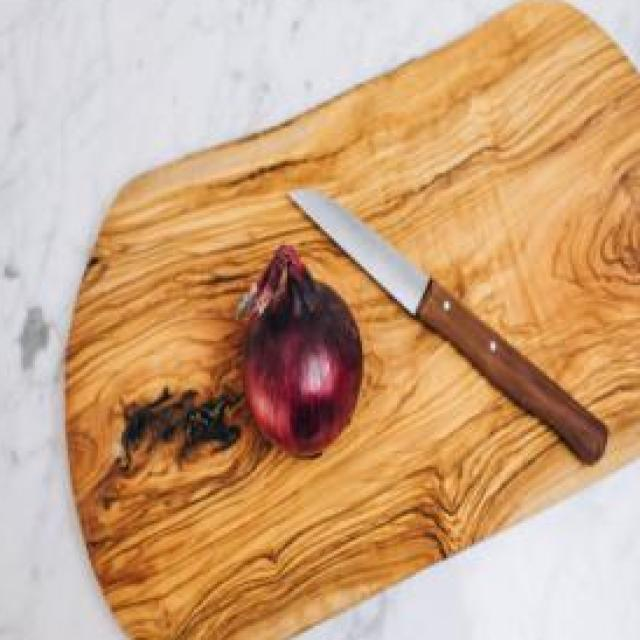knife: (287, 190, 613, 468)
